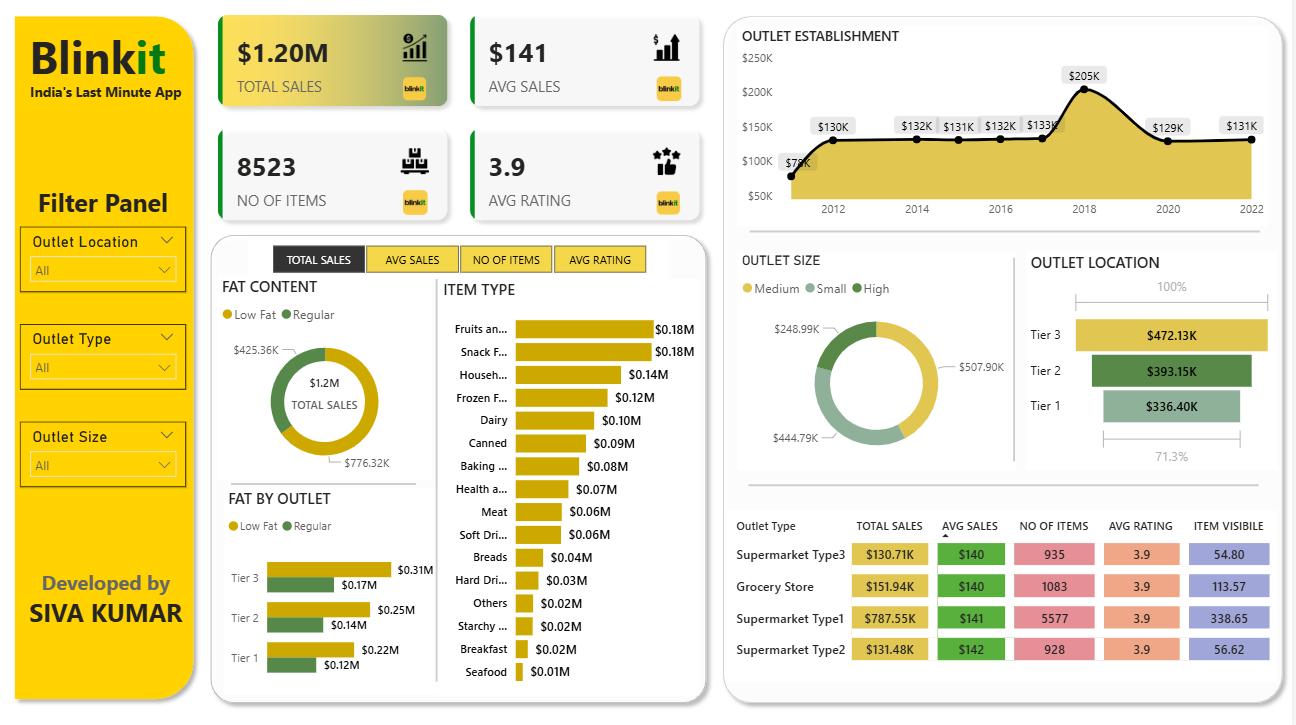

Layout of this report page (visuals, bound fields, positions):
{"tool":"powerbi","page":{"name":"Blinkit Dashboard","canvas":[1400,800],"ordinal":0},"visuals":[{"type":"shape","box":[21,25.5,210.1,750.4],"z":0},{"type":"textbox","box":[36,40.5,166.6,79.5],"z":1000},{"type":"textbox","box":[36,100.6,184.6,37.5],"z":2000},{"type":"textbox","box":[36,621.4,184.6,97.6],"z":3000},{"type":"slicer","fields":{"Values":["BlinkIT Grocery Data.Outlet Location Type"]},"box":[36,259.6,178.6,70.5],"z":4000},{"type":"slicer","fields":{"Values":["BlinkIT Grocery Data.Outlet Type"]},"box":[36,364.7,178.6,70.5],"z":5000},{"type":"slicer","fields":{"Values":["BlinkIT Grocery Data.Outlet Size"]},"box":[36,469.8,178.6,70.5],"z":6000},{"type":"textbox","box":[36.2,210.5,178.3,49.6],"z":7000},{"type":"cardVisual","fields":{"Data":["BlinkIT Grocery Data.TOTAL SALES","BlinkIT Grocery Data.AVG SALES","BlinkIT Grocery Data.NO OF ITEMS","BlinkIT Grocery Data.AVG RATING"]},"box":[231.9,16.1,550,255],"z":8000},{"type":"image","box":[714.5,210.5,34.9,49.6],"z":9000},{"type":"image","box":[714.5,87.1,36.2,50.9],"z":10000},{"type":"image","box":[442.4,209.1,36.2,50.9],"z":11000},{"type":"image","box":[442.4,87.1,34.9,50.9],"z":12000},{"type":"shape","box":[231.9,260.1,549.6,520.1],"z":13000},{"type":"donutChart","title":"FAT CONTENT","fields":{"Y":["BlinkIT Grocery Data.TOTAL SALES"],"Category":["BlinkIT Grocery Data.Item Fat Content"]},"box":[248,312.3,230.6,219.8],"z":14000},{"type":"slicer","fields":{"Values":["Metrics.Metrics"]},"box":[281.5,273.5,450.4,42.9],"z":15000},{"type":"card","fields":{"Values":["BlinkIT Grocery Data.TOTAL SALES"]},"box":[320.4,404.8,85.8,67],"z":16000},{"type":"clusteredBarChart","title":"FAT BY OUTLET","fields":{"Y":["BlinkIT Grocery Data.TOTAL SALES"],"Series":["BlinkIT Grocery Data.Item Fat Content"],"Category":["BlinkIT Grocery Data.Outlet Location Type"]},"box":[254.7,540.2,230.6,222.5],"z":17000},{"type":"barChart","title":"ITEM TYPE","fields":{"Y":["BlinkIT Grocery Data.TOTAL SALES"],"Category":["BlinkIT Grocery Data.Item Type"]},"box":[485.3,316.4,280.2,446.4],"z":18000},{"type":"shape","box":[262.7,518.8,198.4,34.9],"z":19000},{"type":"shape","box":[481.2,316.4,4,431.6],"z":20000},{"type":"shape","box":[781.5,25.5,618,754.7],"z":21000},{"type":"stackedAreaChart","title":"OUTLET ESTABLISHMENT","fields":{"Category":["BlinkIT Grocery Data.Outlet Establishment Year"],"Y":["BlinkIT Grocery Data.TOTAL SALES"]},"box":[805.6,45.6,569.7,214.5],"z":22000},{"type":"donutChart","title":"OUTLET SIZE","fields":{"Y":["BlinkIT Grocery Data.TOTAL SALES"],"Category":["BlinkIT Grocery Data.Outlet Size"]},"box":[805.6,288.2,298.9,233.2],"z":23000},{"type":"funnel","title":"OUTLET LOCATION","fields":{"Y":["BlinkIT Grocery Data.TOTAL SALES"],"Category":["BlinkIT Grocery Data.Outlet Location Type"]},"box":[1115.3,286.9,269.4,234.6],"z":24000},{"type":"shape","box":[819,249.3,546.9,32.2],"z":25000},{"type":"shape","box":[817.7,521.5,546.9,32.2],"z":26000},{"type":"shape","box":[1091.2,293.6,22.8,218.5],"z":27000},{"type":"pivotTable","fields":{"Rows":["BlinkIT Grocery Data.Outlet Type"],"Values":["BlinkIT Grocery Data.TOTAL SALES","BlinkIT Grocery Data.AVG SALES","BlinkIT Grocery Data.NO OF ITEMS","BlinkIT Grocery Data.AVG RATING","Sum(BlinkIT Grocery Data.Item Visibility)"]},"box":[794.9,564.3,589.8,183.6],"z":27001}]}

Visuals, with their boxes in screenshot pixels (x1, y1, x2, y2), scaled from the page's 1400x800 canvas onto the 1296x725 screenshot:
shape: 19:23:214:703
textbox: 33:37:188:109
textbox: 33:91:204:125
textbox: 33:563:204:652
slicer - BlinkIT Grocery Data.Outlet Location Type: 33:235:199:299
slicer - BlinkIT Grocery Data.Outlet Type: 33:331:199:394
slicer - BlinkIT Grocery Data.Outlet Size: 33:426:199:490
textbox: 34:191:199:236
cardVisual - BlinkIT Grocery Data.TOTAL SALES x BlinkIT Grocery Data.AVG SALES: 215:15:724:246
image: 661:191:694:236
image: 661:79:695:125
image: 410:189:443:236
image: 410:79:442:125
shape: 215:236:723:707
"FAT CONTENT" donutChart: 230:283:443:482
slicer - Metrics.Metrics: 261:248:678:287
card - BlinkIT Grocery Data.TOTAL SALES: 297:367:376:428
"FAT BY OUTLET" clusteredBarChart: 236:490:449:691
"ITEM TYPE" barChart: 449:287:709:691
shape: 243:470:427:502
shape: 445:287:449:678
shape: 723:23:1295:707
"OUTLET ESTABLISHMENT" stackedAreaChart: 746:41:1273:236
"OUTLET SIZE" donutChart: 746:261:1022:473
"OUTLET LOCATION" funnel: 1032:260:1282:473
shape: 758:226:1264:255
shape: 757:473:1263:502
shape: 1010:266:1031:464
pivotTable - BlinkIT Grocery Data.Outlet Type x BlinkIT Grocery Data.TOTAL SALES: 736:511:1282:678
